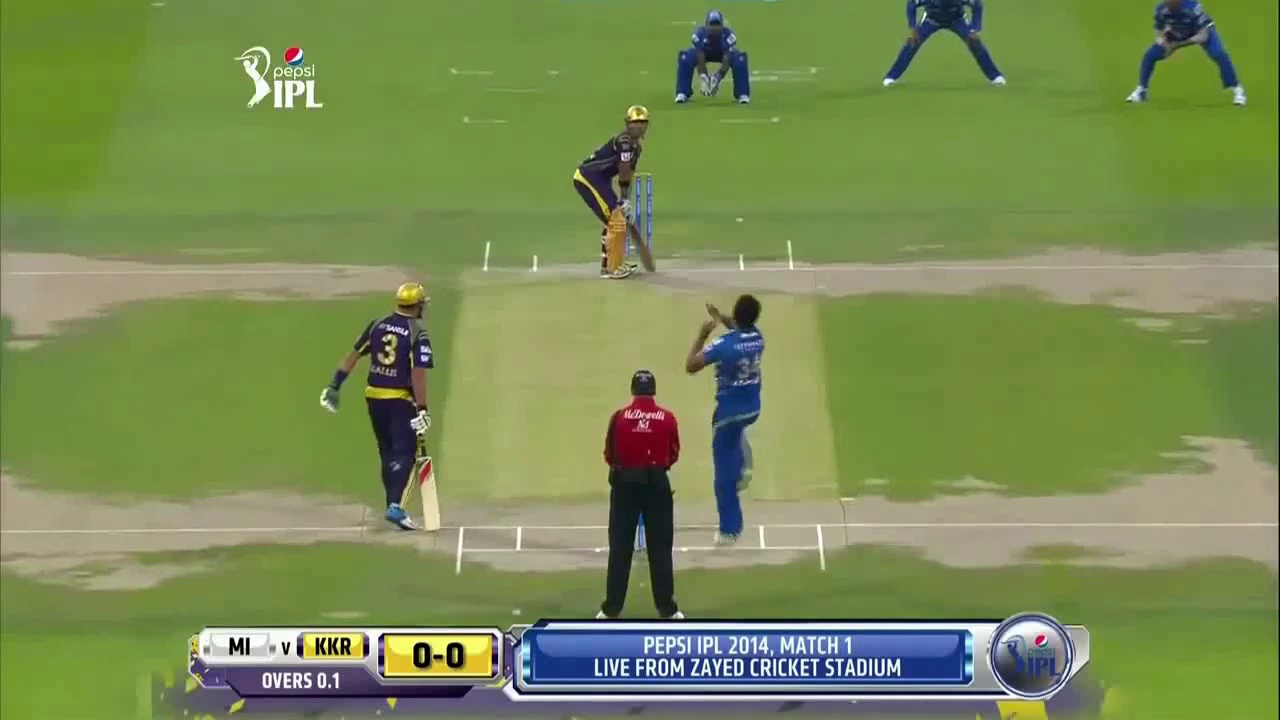bat: (415, 433, 444, 533)
